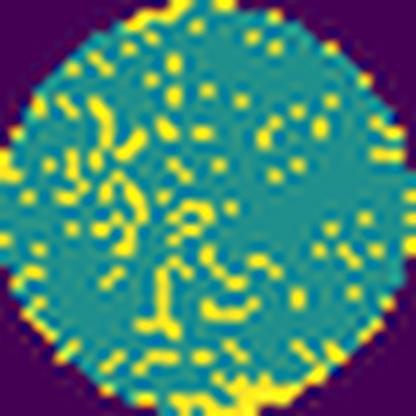Edge-Loc: (173, 364, 329, 416)
